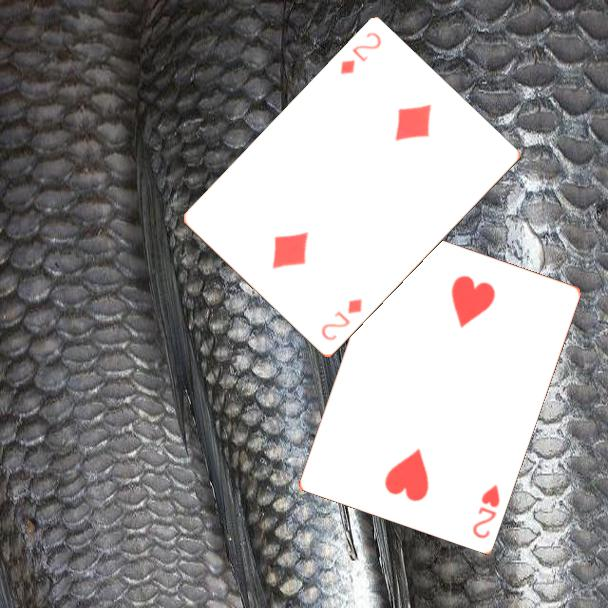d02: (317, 295, 365, 344), (336, 29, 384, 78)
h02: (469, 480, 503, 541)
